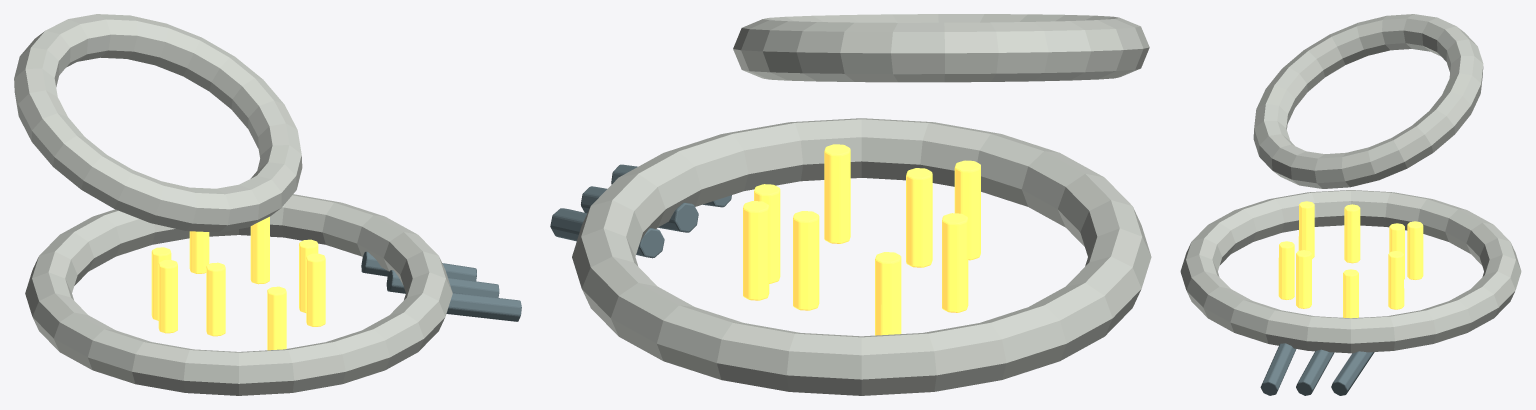
Rendered from micro_reactor_core_d3.glb.
3 views of the same model, side by side, from view 1: azimuth 30°, elevation 25°; view 2: azimuth 150°, elevation 25°; view 3: azimuth 270°, elevation 25° (orthographic). The views are drawn at different scales.
Parts seen in each view (by area): view 1: Broken lower vessel.001, Detached vessel arc.001, Fallen control rod.003, Exposed fuel lattice fragment.015, Exposed fuel lattice fragment.012, Exposed fuel lattice fragment.013, Exposed fuel lattice fragment.014, Exposed fuel lattice fragment.009, Fallen control rod.004, Fallen control rod.005, Exposed fuel lattice fragment.010, Exposed fuel lattice fragment.008 (+1 smaller); view 2: Broken lower vessel.001, Detached vessel arc.001, Exposed fuel lattice fragment.015, Exposed fuel lattice fragment.012, Exposed fuel lattice fragment.014, Exposed fuel lattice fragment.010, Exposed fuel lattice fragment.009, Exposed fuel lattice fragment.011, Exposed fuel lattice fragment.013, Fallen control rod.005, Exposed fuel lattice fragment.008, Fallen control rod.004; view 3: Broken lower vessel.001, Detached vessel arc.001, Exposed fuel lattice fragment.012, Exposed fuel lattice fragment.010, Exposed fuel lattice fragment.014, Fallen control rod.003, Exposed fuel lattice fragment.009, Exposed fuel lattice fragment.015, Fallen control rod.005, Fallen control rod.004, Exposed fuel lattice fragment.013, Exposed fuel lattice fragment.008 (+1 smaller).
Part boxes in pixels (x1,y1,x2,y2): Broken lower vessel.001: (25,194,452,395); Detached vessel arc.001: (14,14,302,232); Fallen control rod.003: (446,293,521,321); Exposed fuel lattice fragment.015: (306,253,325,326); Exposed fuel lattice fragment.012: (158,259,177,333); Exposed fuel lattice fragment.013: (206,262,225,336); Exposed fuel lattice fragment.014: (267,286,286,350); Exposed fuel lattice fragment.009: (250,216,269,284); Fallen control rod.004: (386,270,499,297); Fallen control rod.005: (361,251,476,281); Exposed fuel lattice fragment.010: (189,231,209,273); Exposed fuel lattice fragment.008: (299,239,318,312); Broken lower vessel.001: (572,118,1151,395); Detached vessel arc.001: (733,14,1149,82); Exposed fuel lattice fragment.015: (824,144,850,243); Exposed fuel lattice fragment.012: (942,213,968,312); Exposed fuel lattice fragment.014: (906,168,932,267); Exposed fuel lattice fragment.010: (793,211,819,310); Exposed fuel lattice fragment.009: (743,201,769,300); Exposed fuel lattice fragment.011: (875,252,901,335); Exposed fuel lattice fragment.013: (954,160,980,260); Fallen control rod.005: (550,208,664,258); Exposed fuel lattice fragment.008: (754,184,780,283); Fallen control rod.004: (581,186,698,232); Broken lower vessel.001: (1180,190,1521,353); Detached vessel arc.001: (1253,14,1483,188); Exposed fuel lattice fragment.012: (1344,204,1360,263); Exposed fuel lattice fragment.010: (1407,221,1423,279); Exposed fuel lattice fragment.014: (1278,241,1294,299); Fallen control rod.003: (1260,343,1296,395); Exposed fuel lattice fragment.009: (1388,251,1404,309); Exposed fuel lattice fragment.015: (1296,250,1311,308); Fallen control rod.005: (1331,351,1374,395); Fallen control rod.004: (1296,349,1334,395); Exposed fuel lattice fragment.013: (1298,201,1314,258); Exposed fuel lattice fragment.008: (1343,269,1358,318).
Bounding box in the file's own units: 3.41 × 2.19 × 2.92.
